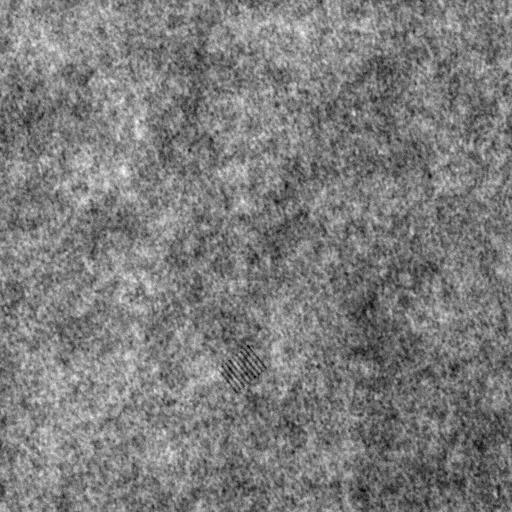DefectTypeB: (218, 342, 265, 391)
